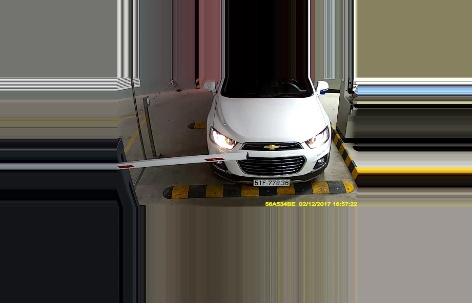plate: (253, 175, 293, 187)
